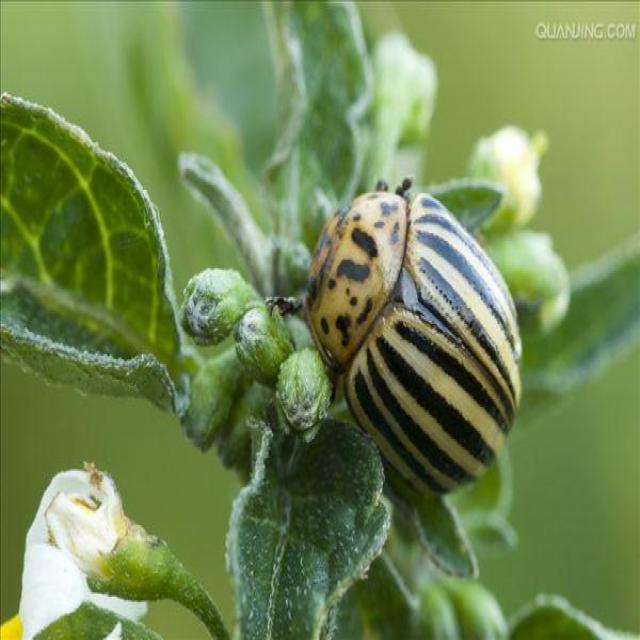ShuCaiHuaBanChong-Grown-: (291, 153, 537, 514)
